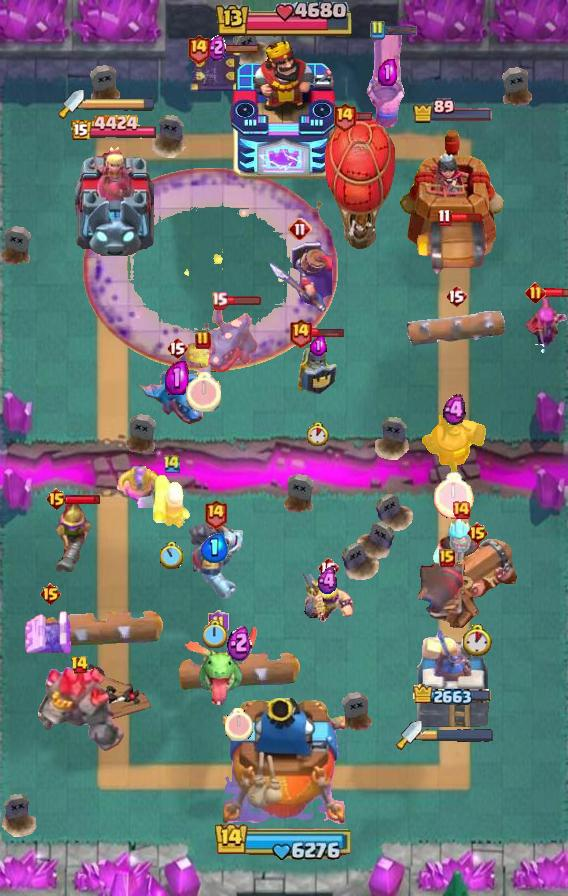arrows: (301, 574, 355, 624)
bar: (70, 142, 158, 256), (414, 623, 492, 731)
battle-healer: (433, 536, 521, 608), (364, 27, 410, 131)
bomb-tower: (51, 498, 93, 572)
cannon-cart: (324, 113, 396, 253)
cannoneer-tower: (34, 665, 124, 753)
clock: (214, 821, 354, 861), (213, 2, 355, 40)
electro-spirit: (227, 623, 252, 661), (201, 533, 229, 563), (165, 361, 189, 395), (443, 394, 466, 426), (315, 567, 341, 595), (207, 34, 226, 61), (379, 58, 398, 85), (309, 336, 327, 357)
electro-wizard: (176, 627, 260, 705)
elixir: (434, 472, 474, 519), (186, 372, 222, 412), (463, 624, 492, 656), (225, 708, 253, 741), (204, 620, 229, 648), (160, 543, 184, 570), (307, 422, 329, 446)
elixir-golem-big: (268, 237, 332, 315)
elixir-golem-small: (187, 520, 243, 600)
emote: (208, 42, 260, 53), (311, 326, 346, 338), (225, 294, 262, 305), (65, 495, 102, 506), (382, 24, 418, 35), (449, 213, 483, 224), (544, 286, 568, 299), (354, 110, 374, 121)
evolution-symbol: (522, 294, 568, 354)
goblin-brawler: (24, 607, 76, 657)
goblin-giant: (115, 465, 165, 508)
graveyard: (138, 361, 216, 425), (203, 300, 259, 376)
ice-spirit-evolution: (184, 343, 222, 373)
ice-spirit-evolution-symbol: (189, 45, 243, 95)
king-tower: (223, 698, 345, 826), (230, 41, 338, 181)
king-tower-bar: (84, 97, 156, 111), (422, 728, 494, 742)
minion: (38, 605, 166, 651), (175, 647, 303, 693), (407, 311, 505, 347)
monk: (421, 398, 487, 476)
mortar: (430, 513, 492, 577)
princess: (293, 333, 343, 397)
queen-tower: (398, 128, 508, 256)
rocket: (82, 167, 338, 371)
royal-giant-evolution: (413, 564, 481, 634)
selected: (70, 113, 158, 142), (412, 98, 494, 124), (413, 684, 493, 708)
text: (186, 32, 211, 63), (332, 100, 357, 131), (204, 499, 229, 530), (288, 317, 312, 348), (288, 217, 312, 241), (45, 487, 68, 511), (466, 521, 489, 545), (38, 582, 61, 606), (208, 610, 229, 636), (445, 284, 467, 308), (166, 336, 188, 360), (317, 556, 339, 580), (525, 281, 547, 303), (162, 453, 182, 475), (451, 500, 471, 520), (70, 655, 90, 675), (211, 290, 229, 309), (369, 20, 385, 40), (195, 330, 211, 350), (439, 549, 455, 567), (437, 209, 451, 228)
the-log: (415, 216, 495, 276)
tombstone: (151, 472, 193, 530)
